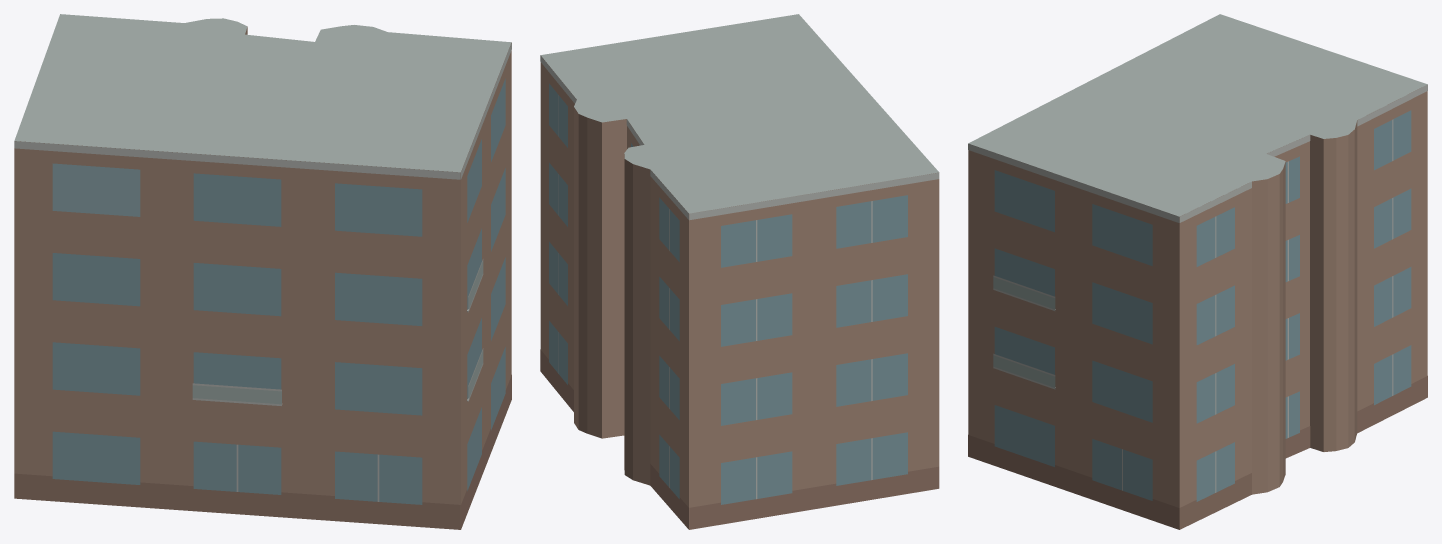
The model's file is survey-upis-32972381.glb.
The picture shows the model from 3 angles, left to right: view 1: azimuth 30°, elevation 25°; view 2: azimuth 150°, elevation 25°; view 3: azimuth 270°, elevation 25°; orthographic projection. The views are drawn at different scales.
Parts seen in each view (by area): view 1: survey-upis-32972381.tmp; view 2: survey-upis-32972381.tmp; view 3: survey-upis-32972381.tmp.
Part boxes in pixels (left/top/right/bottom): survey-upis-32972381.tmp: left=14, top=14, right=511, bottom=529; survey-upis-32972381.tmp: left=540, top=14, right=939, bottom=529; survey-upis-32972381.tmp: left=968, top=14, right=1427, bottom=529.
Size of the model in its own units: 16.25 by 11.7 by 15.57.
